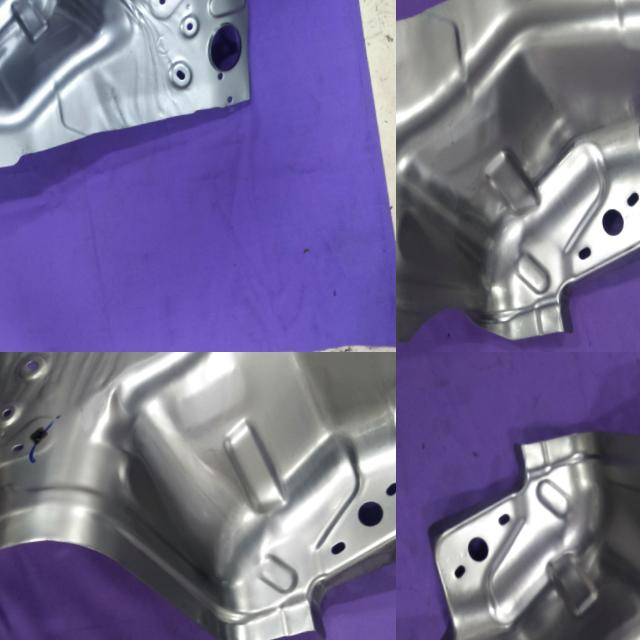Defect: (396, 286, 537, 352)
Healthy: (0, 352, 396, 640), (396, 391, 640, 640)
